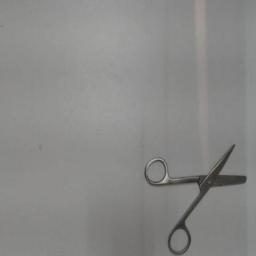Dressing Scissors: (138, 136, 250, 256)
